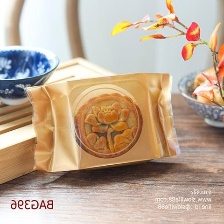snack: (18, 65, 188, 181)
